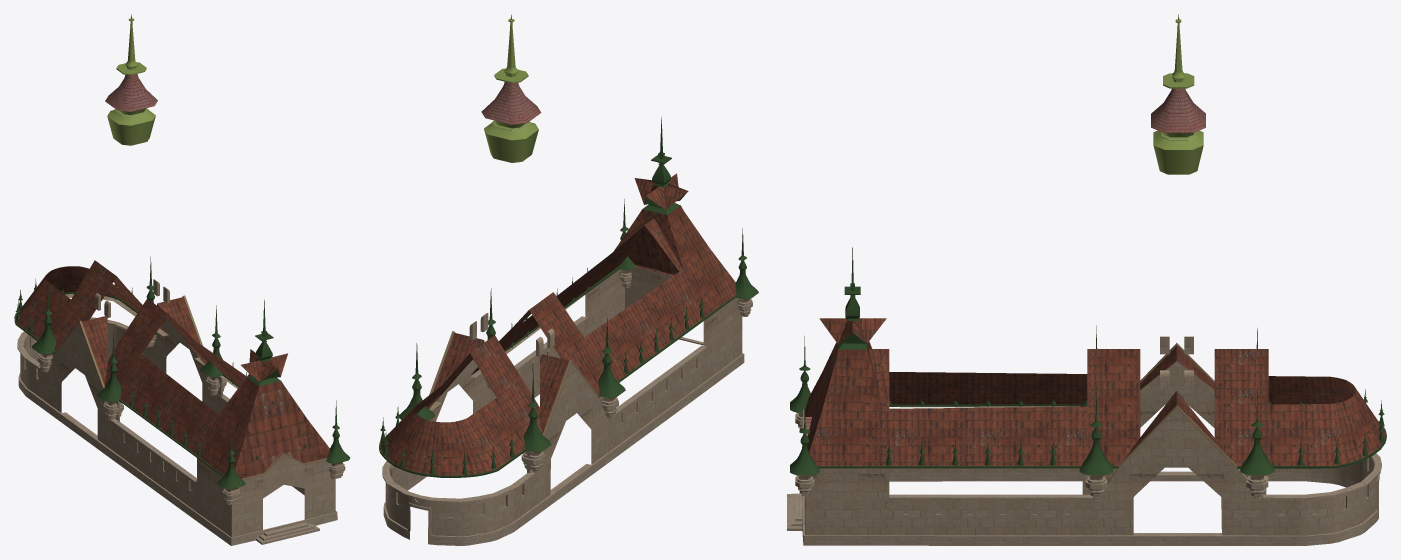
File: pavilion_ext.gltf
The picture shows the model from 3 angles, left to right: view 1: azimuth 30°, elevation 25°; view 2: azimuth 150°, elevation 25°; view 3: azimuth 270°, elevation 25°; orthographic projection. The views are drawn at different scales.
Visible parts, largest first — view 1: ROOF.003, EXTERIOR WALLS.002, LARGE TOWER TOP.002, ROOF SMALL.002, SMALL ROOF DECORATION.007, SMALL ROOF DECORATION.008, ROOF TOP.002, EDGE DETAIL.002, SMALL ROOF DECORATION.006, WOOD DETAIL.002, TOWER ROUND DETAIL.002; view 2: ROOF.003, EXTERIOR WALLS.002, LARGE TOWER TOP.002, ROOF SMALL.002, WOOD DETAIL.002, EDGE DETAIL.002, ROOF TOP.002, SMALL ROOF DECORATION.006, SMALL ROOF DECORATION.007, SMALL ROOF DECORATION.008, TOWER ROUND DETAIL.002; view 3: ROOF.003, EXTERIOR WALLS.002, LARGE TOWER TOP.002, EDGE DETAIL.002, WOOD DETAIL.002, ROOF TOP.002, ROOF SMALL.002, SMALL ROOF DECORATION.008, SMALL ROOF DECORATION.007, SMALL ROOF DECORATION.006, TOWER ROUND DETAIL.002.
Part boxes in pixels (left/top/right/bottom): ROOF.003: left=16, top=260, right=329, bottom=478; EXTERIOR WALLS.002: left=18, top=320, right=337, bottom=545; LARGE TOWER TOP.002: left=105, top=14, right=157, bottom=145; ROOF SMALL.002: left=82, top=297, right=206, bottom=385; SMALL ROOF DECORATION.007: left=97, top=305, right=226, bottom=420; SMALL ROOF DECORATION.008: left=217, top=400, right=350, bottom=504; ROOF TOP.002: left=241, top=299, right=287, bottom=386; EDGE DETAIL.002: left=14, top=292, right=326, bottom=480; SMALL ROOF DECORATION.006: left=31, top=257, right=156, bottom=372; WOOD DETAIL.002: left=17, top=317, right=229, bottom=481; TOWER ROUND DETAIL.002: left=94, top=279, right=169, bottom=317; ROOF.003: left=381, top=205, right=736, bottom=475; EXTERIOR WALLS.002: left=383, top=267, right=744, bottom=545; LARGE TOWER TOP.002: left=481, top=14, right=541, bottom=162; ROOF SMALL.002: left=427, top=333, right=569, bottom=433; WOOD DETAIL.002: left=382, top=316, right=707, bottom=503; EDGE DETAIL.002: left=379, top=264, right=737, bottom=477; ROOF TOP.002: left=634, top=117, right=688, bottom=214; SMALL ROOF DECORATION.006: left=399, top=343, right=551, bottom=472; SMALL ROOF DECORATION.007: left=485, top=288, right=625, bottom=418; SMALL ROOF DECORATION.008: left=619, top=199, right=758, bottom=316; TOWER ROUND DETAIL.002: left=469, top=313, right=554, bottom=356; ROOF.003: left=805, top=341, right=1385, bottom=466; EXTERIOR WALLS.002: left=787, top=361, right=1379, bottom=545; LARGE TOWER TOP.002: left=1151, top=14, right=1205, bottom=174; EDGE DETAIL.002: left=803, top=343, right=1386, bottom=468; WOOD DETAIL.002: left=889, top=453, right=1381, bottom=499; ROOF TOP.002: left=819, top=247, right=886, bottom=349; ROOF SMALL.002: left=1126, top=345, right=1231, bottom=459; SMALL ROOF DECORATION.008: left=790, top=336, right=819, bottom=495; SMALL ROOF DECORATION.007: left=1079, top=325, right=1113, bottom=498; SMALL ROOF DECORATION.006: left=1240, top=328, right=1274, bottom=498; TOWER ROUND DETAIL.002: left=1160, top=336, right=1193, bottom=389.
Bounding box in the file's own units: 19.55 × 59.46 × 64.69.
5 materials, 5 textured.
